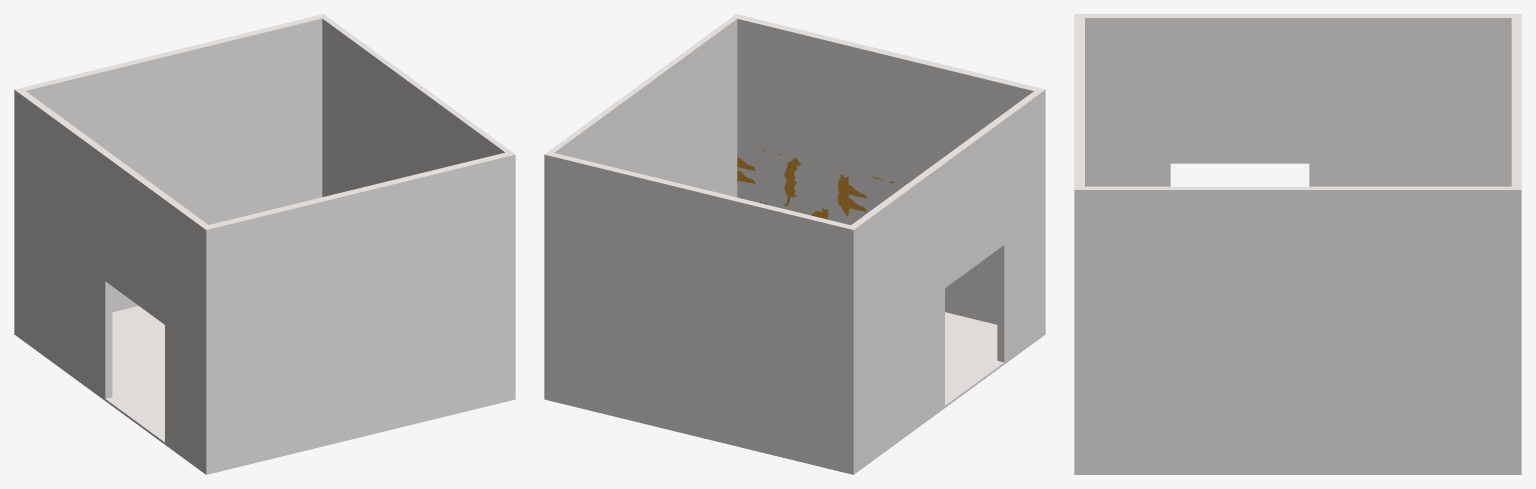
The model's file is ExtandRoom.fbx.
3 renders of one model, left to right at view 1: azimuth 30°, elevation 25°; view 2: azimuth 150°, elevation 25°; view 3: azimuth 270°, elevation 25°, orthographic. The views are drawn at different scales.
Visible parts, largest first — view 1: Office_Ext_and_Room:OfficeExtandRoom; view 2: Office_Ext_and_Room:OfficeExtandRoom; view 3: Office_Ext_and_Room:OfficeExtandRoom.
Part boxes in pixels (x1,y1,x2,y2): Office_Ext_and_Room:OfficeExtandRoom: (14,14,515,474); Office_Ext_and_Room:OfficeExtandRoom: (544,14,1045,474); Office_Ext_and_Room:OfficeExtandRoom: (1074,14,1521,474).
Size of the model in its own units: 977 by 738 by 1050.
